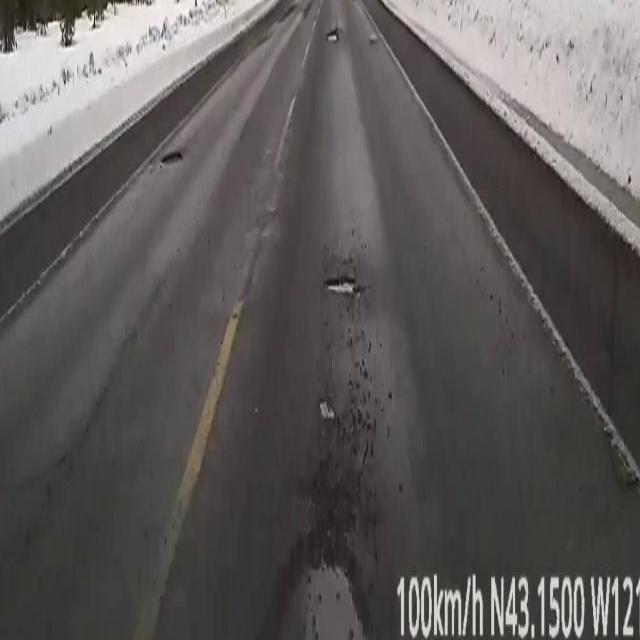pothole: (255, 536, 377, 640), (325, 276, 360, 299), (319, 394, 332, 418), (162, 152, 182, 164), (327, 32, 337, 41)
